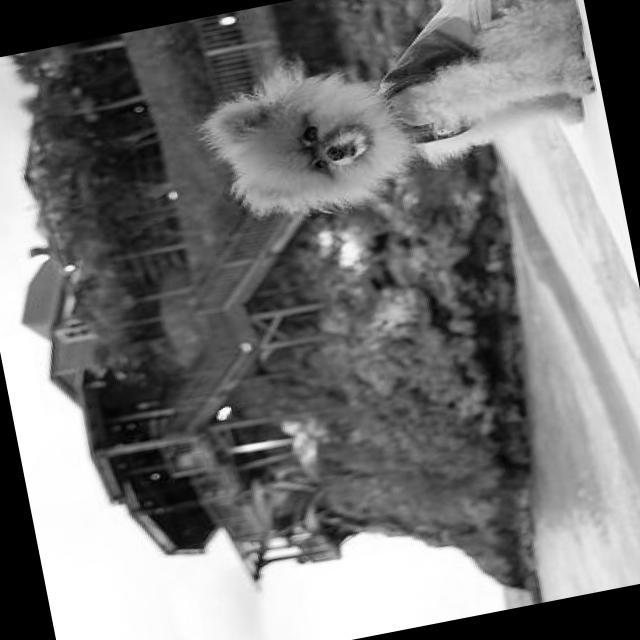sitting: (174, 0, 614, 237)
